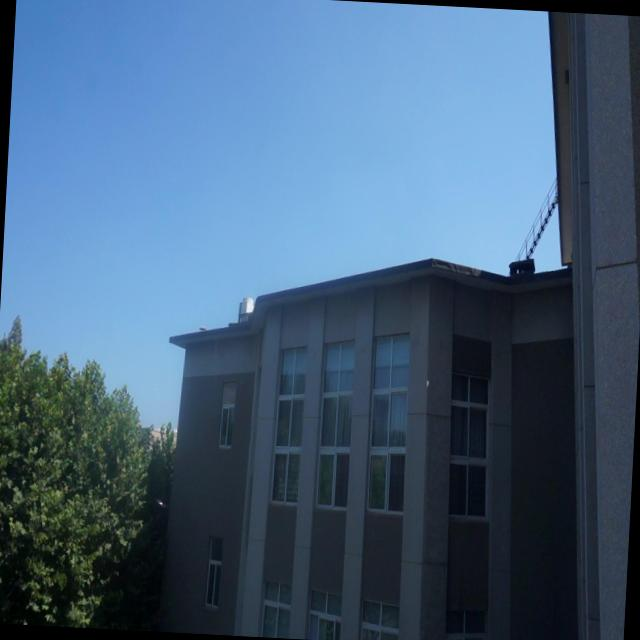drone: (152, 492, 170, 516)
